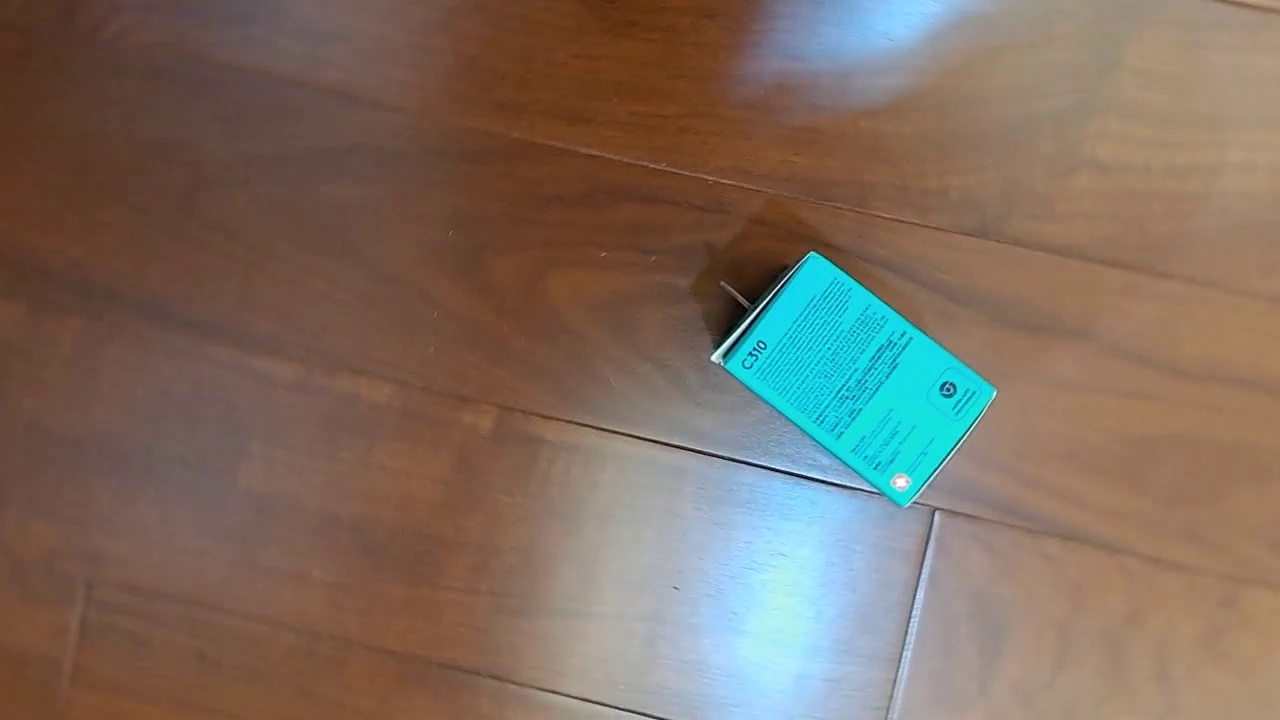webcam: (709, 250, 999, 509)
